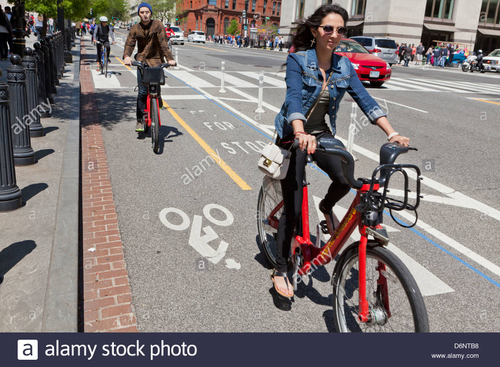bikerider: (251, 4, 445, 329), (119, 4, 180, 155), (87, 13, 117, 78)
